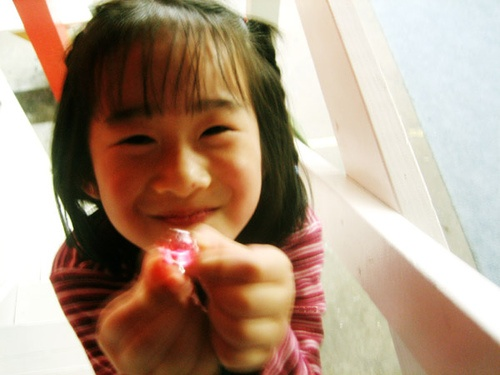person: (51, 2, 325, 375)
person/hand: (188, 224, 295, 373), (101, 248, 220, 375)
person/head: (57, 2, 294, 252)
